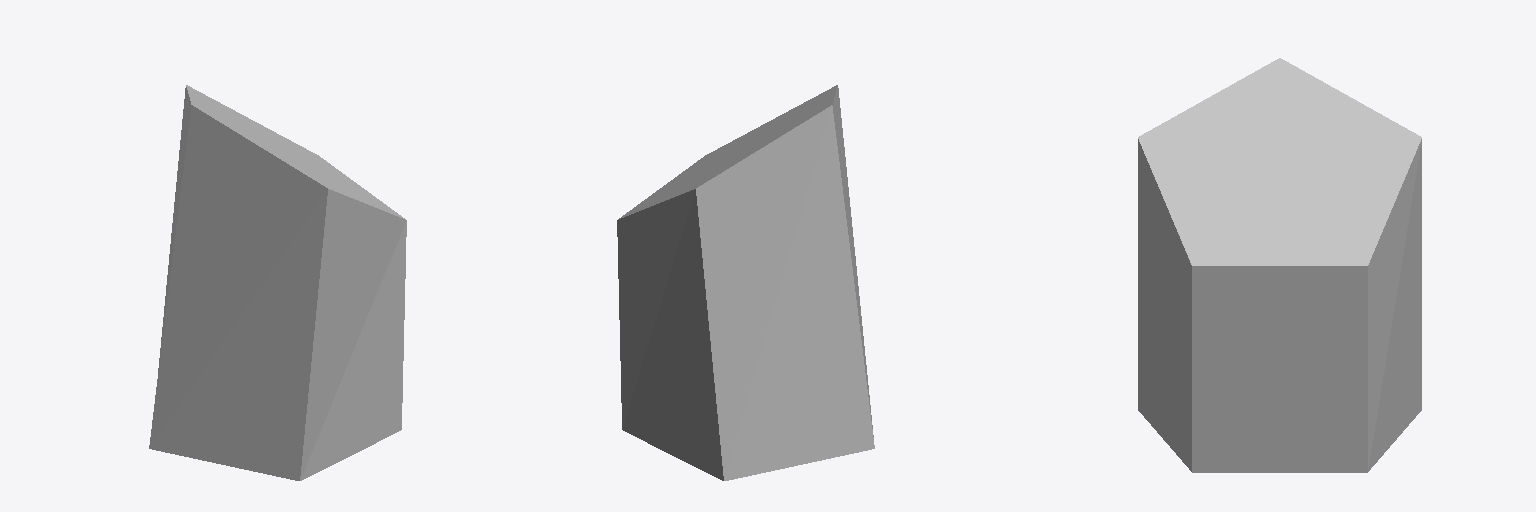
File: 06_00_RThighs.obj
3 views of the same model, side by side, from view 1: azimuth 30°, elevation 25°; view 2: azimuth 150°, elevation 25°; view 3: azimuth 270°, elevation 25° (orthographic).
Parts seen in each view (by area): view 1: pasted__pCylinder1 group; view 2: pasted__pCylinder1 group; view 3: pasted__pCylinder1 group.
Boxes of the visible parts, x1,y1,x2,y2 form: pasted__pCylinder1 group: [149, 85, 406, 480]; pasted__pCylinder1 group: [617, 85, 874, 480]; pasted__pCylinder1 group: [1138, 58, 1421, 472].
Size of the model in its own units: 31 by 46.22 by 35.74.